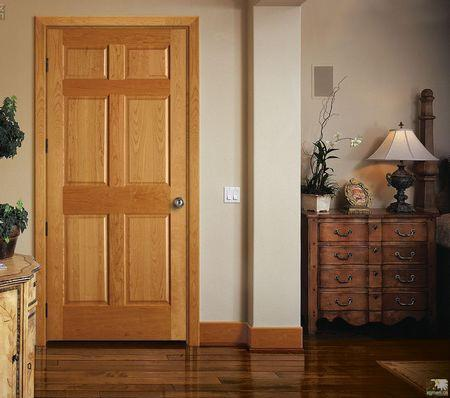door: (39, 16, 194, 344)
